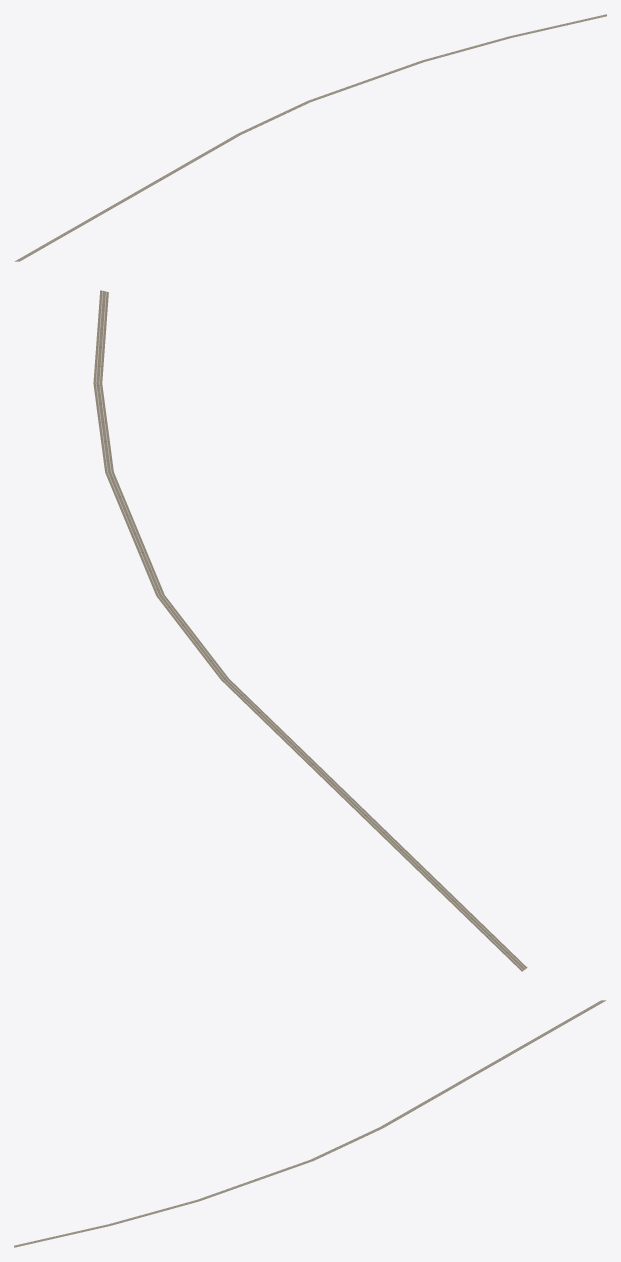
The picture shows the model from 3 angles, top to bottom: view 1: azimuth 90°, elevation 25°; view 2: azimuth 150°, elevation 25°; view 3: azimuth 270°, elevation 25°; orthographic projection. The views are drawn at different scales.
Visible parts, largest first — view 1: rail; view 2: rail; view 3: rail.
Boxes of the visible parts, <box> form: rail: <box>15,14,606,261</box>; rail: <box>93,290,527,971</box>; rail: <box>14,1000,605,1247</box>.
Bounding box in the file's own units: 476 × 0.04 × 482.
